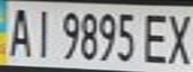5: (115, 9, 142, 63)
8: (78, 8, 100, 61)
9: (96, 8, 121, 62), (57, 7, 81, 60)
A: (3, 3, 33, 59)
E: (139, 9, 175, 65)
I: (27, 4, 57, 60)
X: (163, 10, 193, 66)
